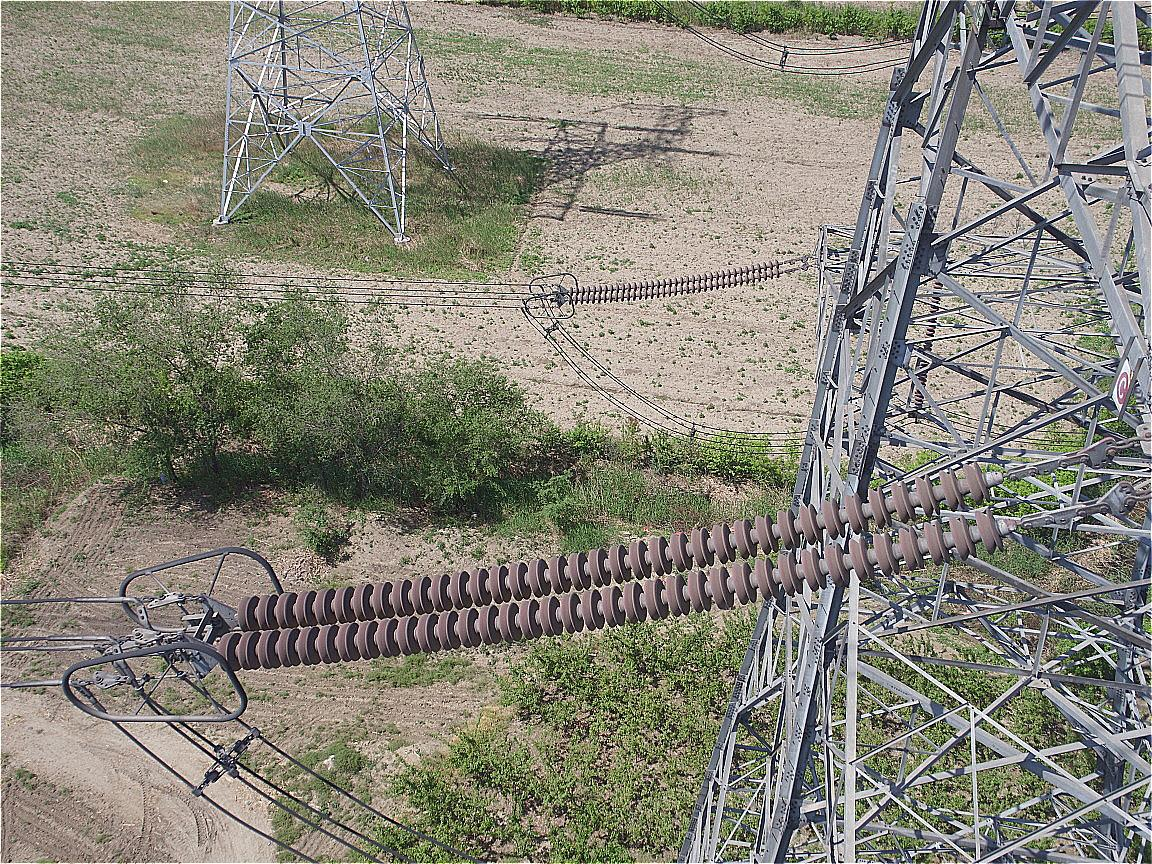insultor1: (568, 259, 782, 309)
insultor2: (220, 462, 1002, 673)
